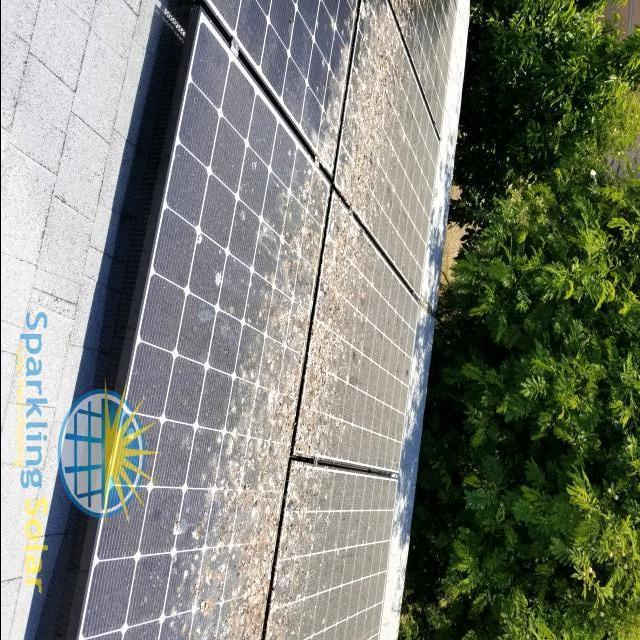soiled: (150, 1, 457, 639)
